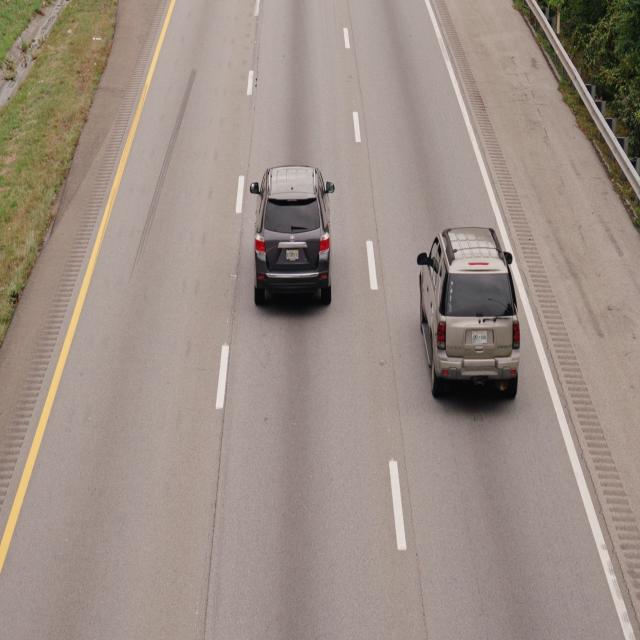Car: (417, 223, 521, 402), (245, 164, 339, 305)
